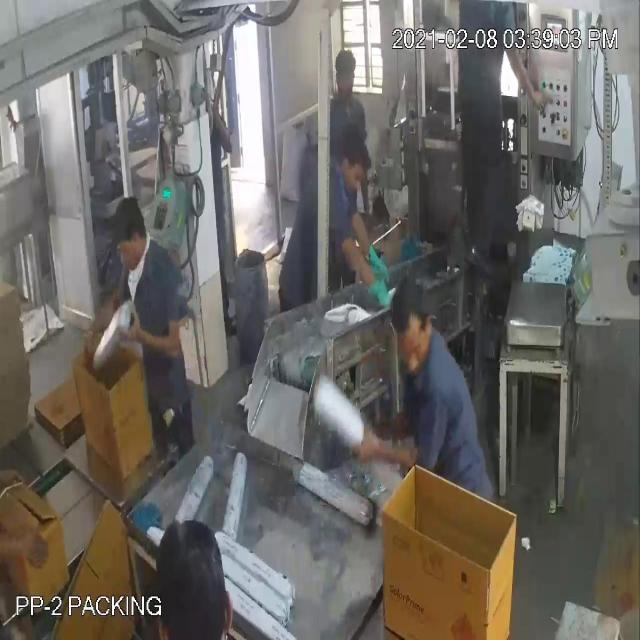No_Gloves: (24, 58, 366, 546)
